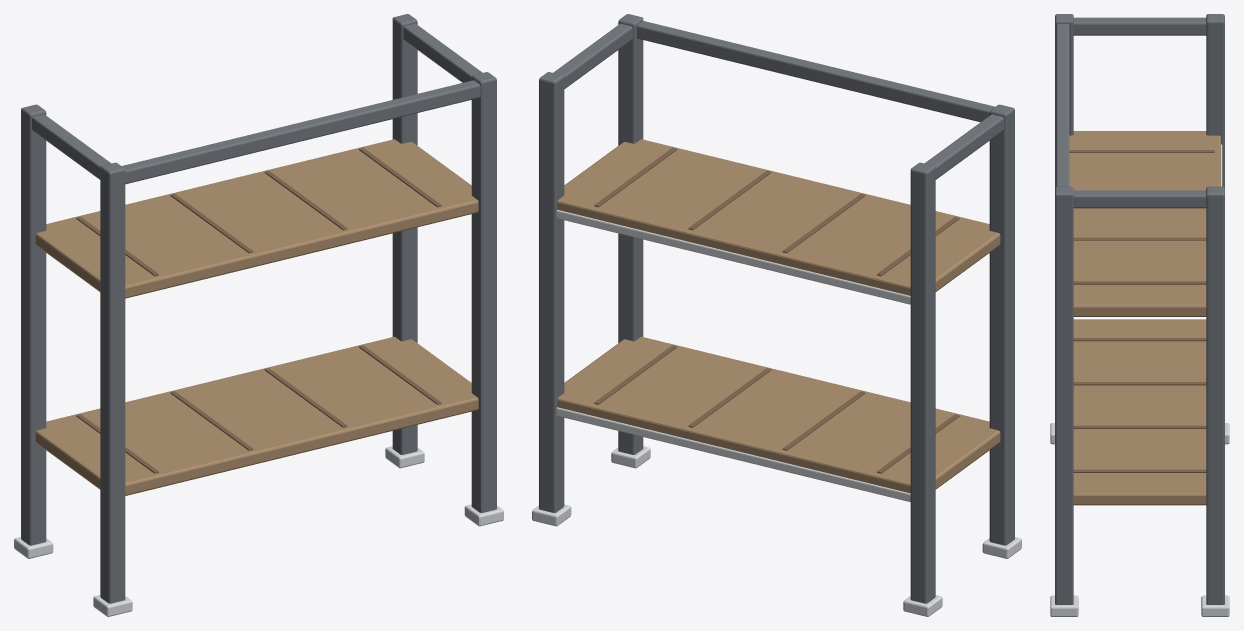
File: SM_ShelfSmall.fbx
3 views of the same model, side by side, from view 1: azimuth 30°, elevation 25°; view 2: azimuth 150°, elevation 25°; view 3: azimuth 270°, elevation 25° (orthographic). The views are drawn at different scales.
Visible parts, largest first — view 1: ShelfSmall_Body; view 2: ShelfSmall_Body; view 3: ShelfSmall_Body.
Part boxes in pixels (left/top/right/bottom): ShelfSmall_Body: left=14, top=14, right=503, bottom=616; ShelfSmall_Body: left=532, top=14, right=1021, bottom=616; ShelfSmall_Body: left=1050, top=14, right=1229, bottom=616.
Size of the model in its own units: 105 by 43.2 by 112.
